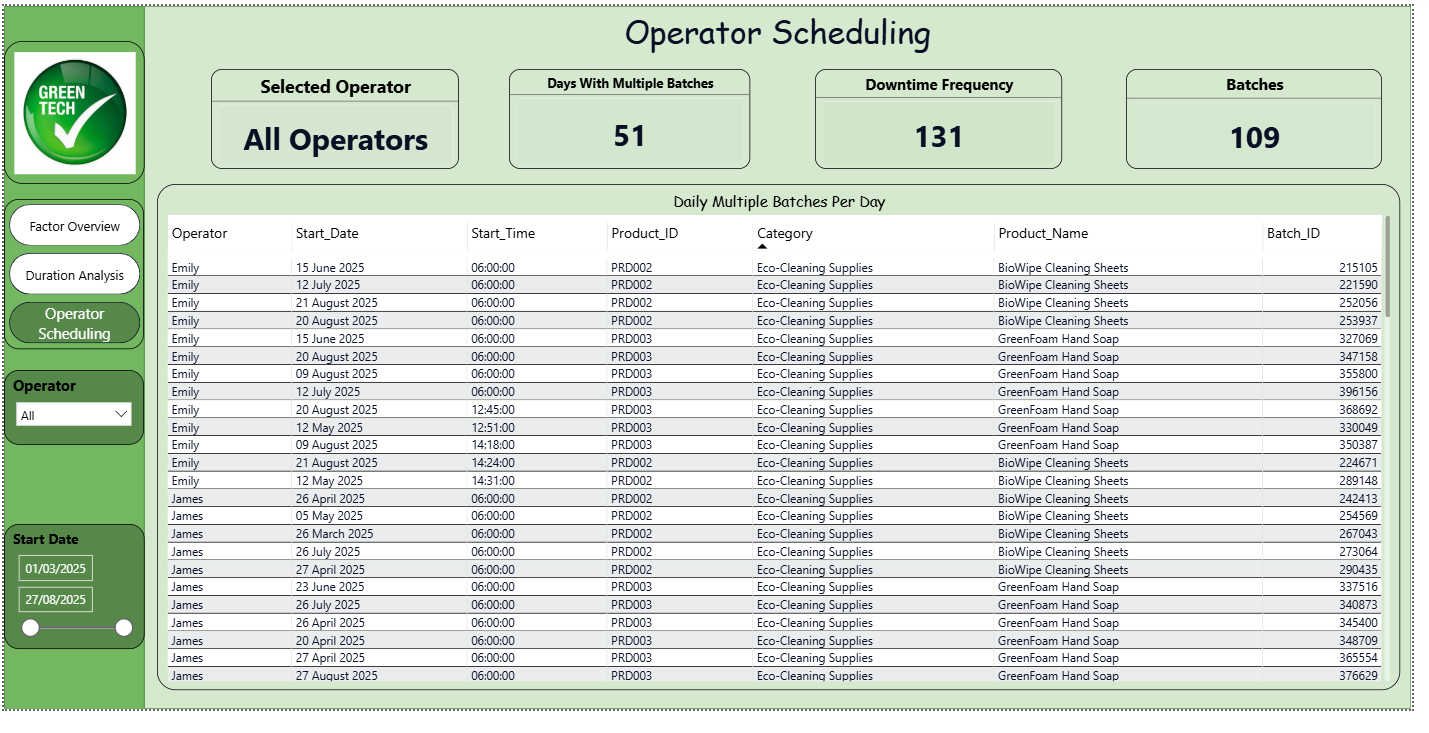

The page's visual inventory and layout, read from the dashboard file:
{"tool":"powerbi","page":{"name":"Operator Scheduling","canvas":[1902,950],"ordinal":2},"visuals":[{"type":"shape","box":[189.2,0,1712.2,950],"z":0},{"type":"shape","box":[0,0,189.8,950.8],"z":1000},{"type":"textbox","box":[189.8,0,1711.9,950.8],"z":2000},{"type":"cardVisual","title":"Selected Operator","fields":{"Data":["batch_pd.Selected Operator"]},"box":[279.7,85.1,335.1,135.1],"z":3000},{"type":"cardVisual","title":"Batches","fields":{"Data":["Count(batch_pd.Batch_ID)"]},"box":[1516.2,85.1,345.9,135.1],"z":4000},{"type":"cardVisual","title":"Downtime Frequency","fields":{"Data":["CountNonNull(downtimes.Factor_ID)"]},"box":[1095.9,85.1,333.8,135.1],"z":5000},{"type":"cardVisual","title":"Days With Multiple Batches","fields":{"Data":["Count(batch_pd.Start_Date)"]},"box":[682.4,85.1,325.7,135.1],"z":6000},{"type":"slicer","title":"Operator","fields":{"Values":["batch_pd.Operator"]},"box":[0,491.9,189.2,101.4],"z":7000},{"type":"slicer","title":"Start Date","fields":{"Values":["batch_pd.Start_Date"]},"box":[0,700,189.8,169.5],"z":8000},{"type":"image","box":[0,47.5,189.8,193.2],"z":9000},{"type":"pageNavigator","box":[0,260.8,189.2,202.7],"z":10000},{"type":"tableEx","title":"Daily Multiple Batches Per Day","fields":{"Values":["batch_pd.Operator","batch_pd.Start_Date","batch_pd.Start_Time","batch_pd.Product_ID","products.Category","products.Product_Name","batch_pd.Batch_ID"]},"box":[206.8,240.5,1679.7,683.8],"z":11000}]}

Visuals, with their boxes in screenshot pixels (x1, y1, x2, y2), scaled from the page's 1902x950 canvas onto the 1429x733 screenshot:
shape: locate(142, 0, 1428, 732)
shape: locate(0, 0, 143, 732)
textbox: locate(143, 0, 1428, 732)
"Selected Operator" cardVisual: locate(210, 66, 462, 170)
"Batches" cardVisual: locate(1139, 66, 1399, 170)
"Downtime Frequency" cardVisual: locate(823, 66, 1074, 170)
"Days With Multiple Batches" cardVisual: locate(513, 66, 757, 170)
"Operator" slicer: locate(0, 380, 142, 458)
"Start Date" slicer: locate(0, 540, 143, 671)
image: locate(0, 37, 143, 186)
pageNavigator: locate(0, 201, 142, 358)
"Daily Multiple Batches Per Day" tableEx: locate(155, 186, 1417, 713)
